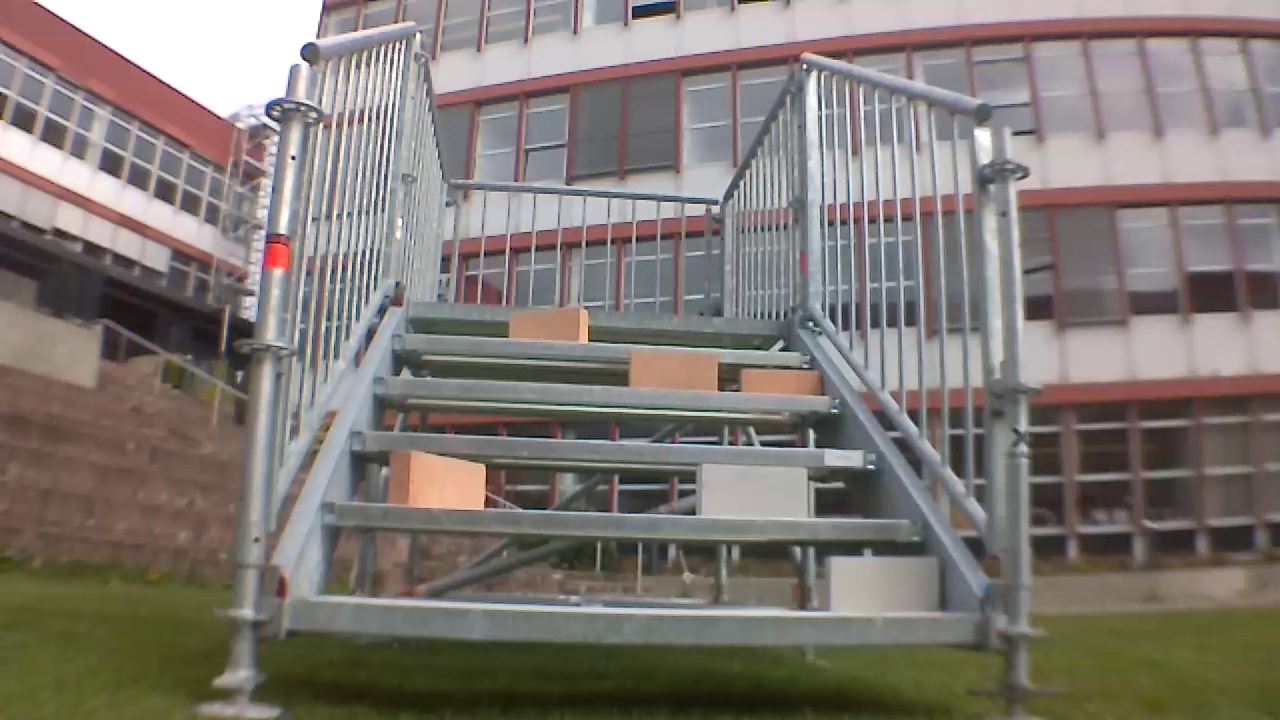brick: (826, 555, 937, 611), (693, 464, 806, 516), (386, 450, 485, 509), (630, 348, 718, 390), (509, 309, 588, 341), (741, 370, 819, 395)
edge: (287, 599, 978, 644), (318, 501, 922, 541), (350, 431, 879, 471), (373, 375, 839, 416), (409, 301, 785, 339), (394, 335, 810, 368)
stairs: (193, 23, 1061, 719)
steps: (279, 293, 988, 651)
